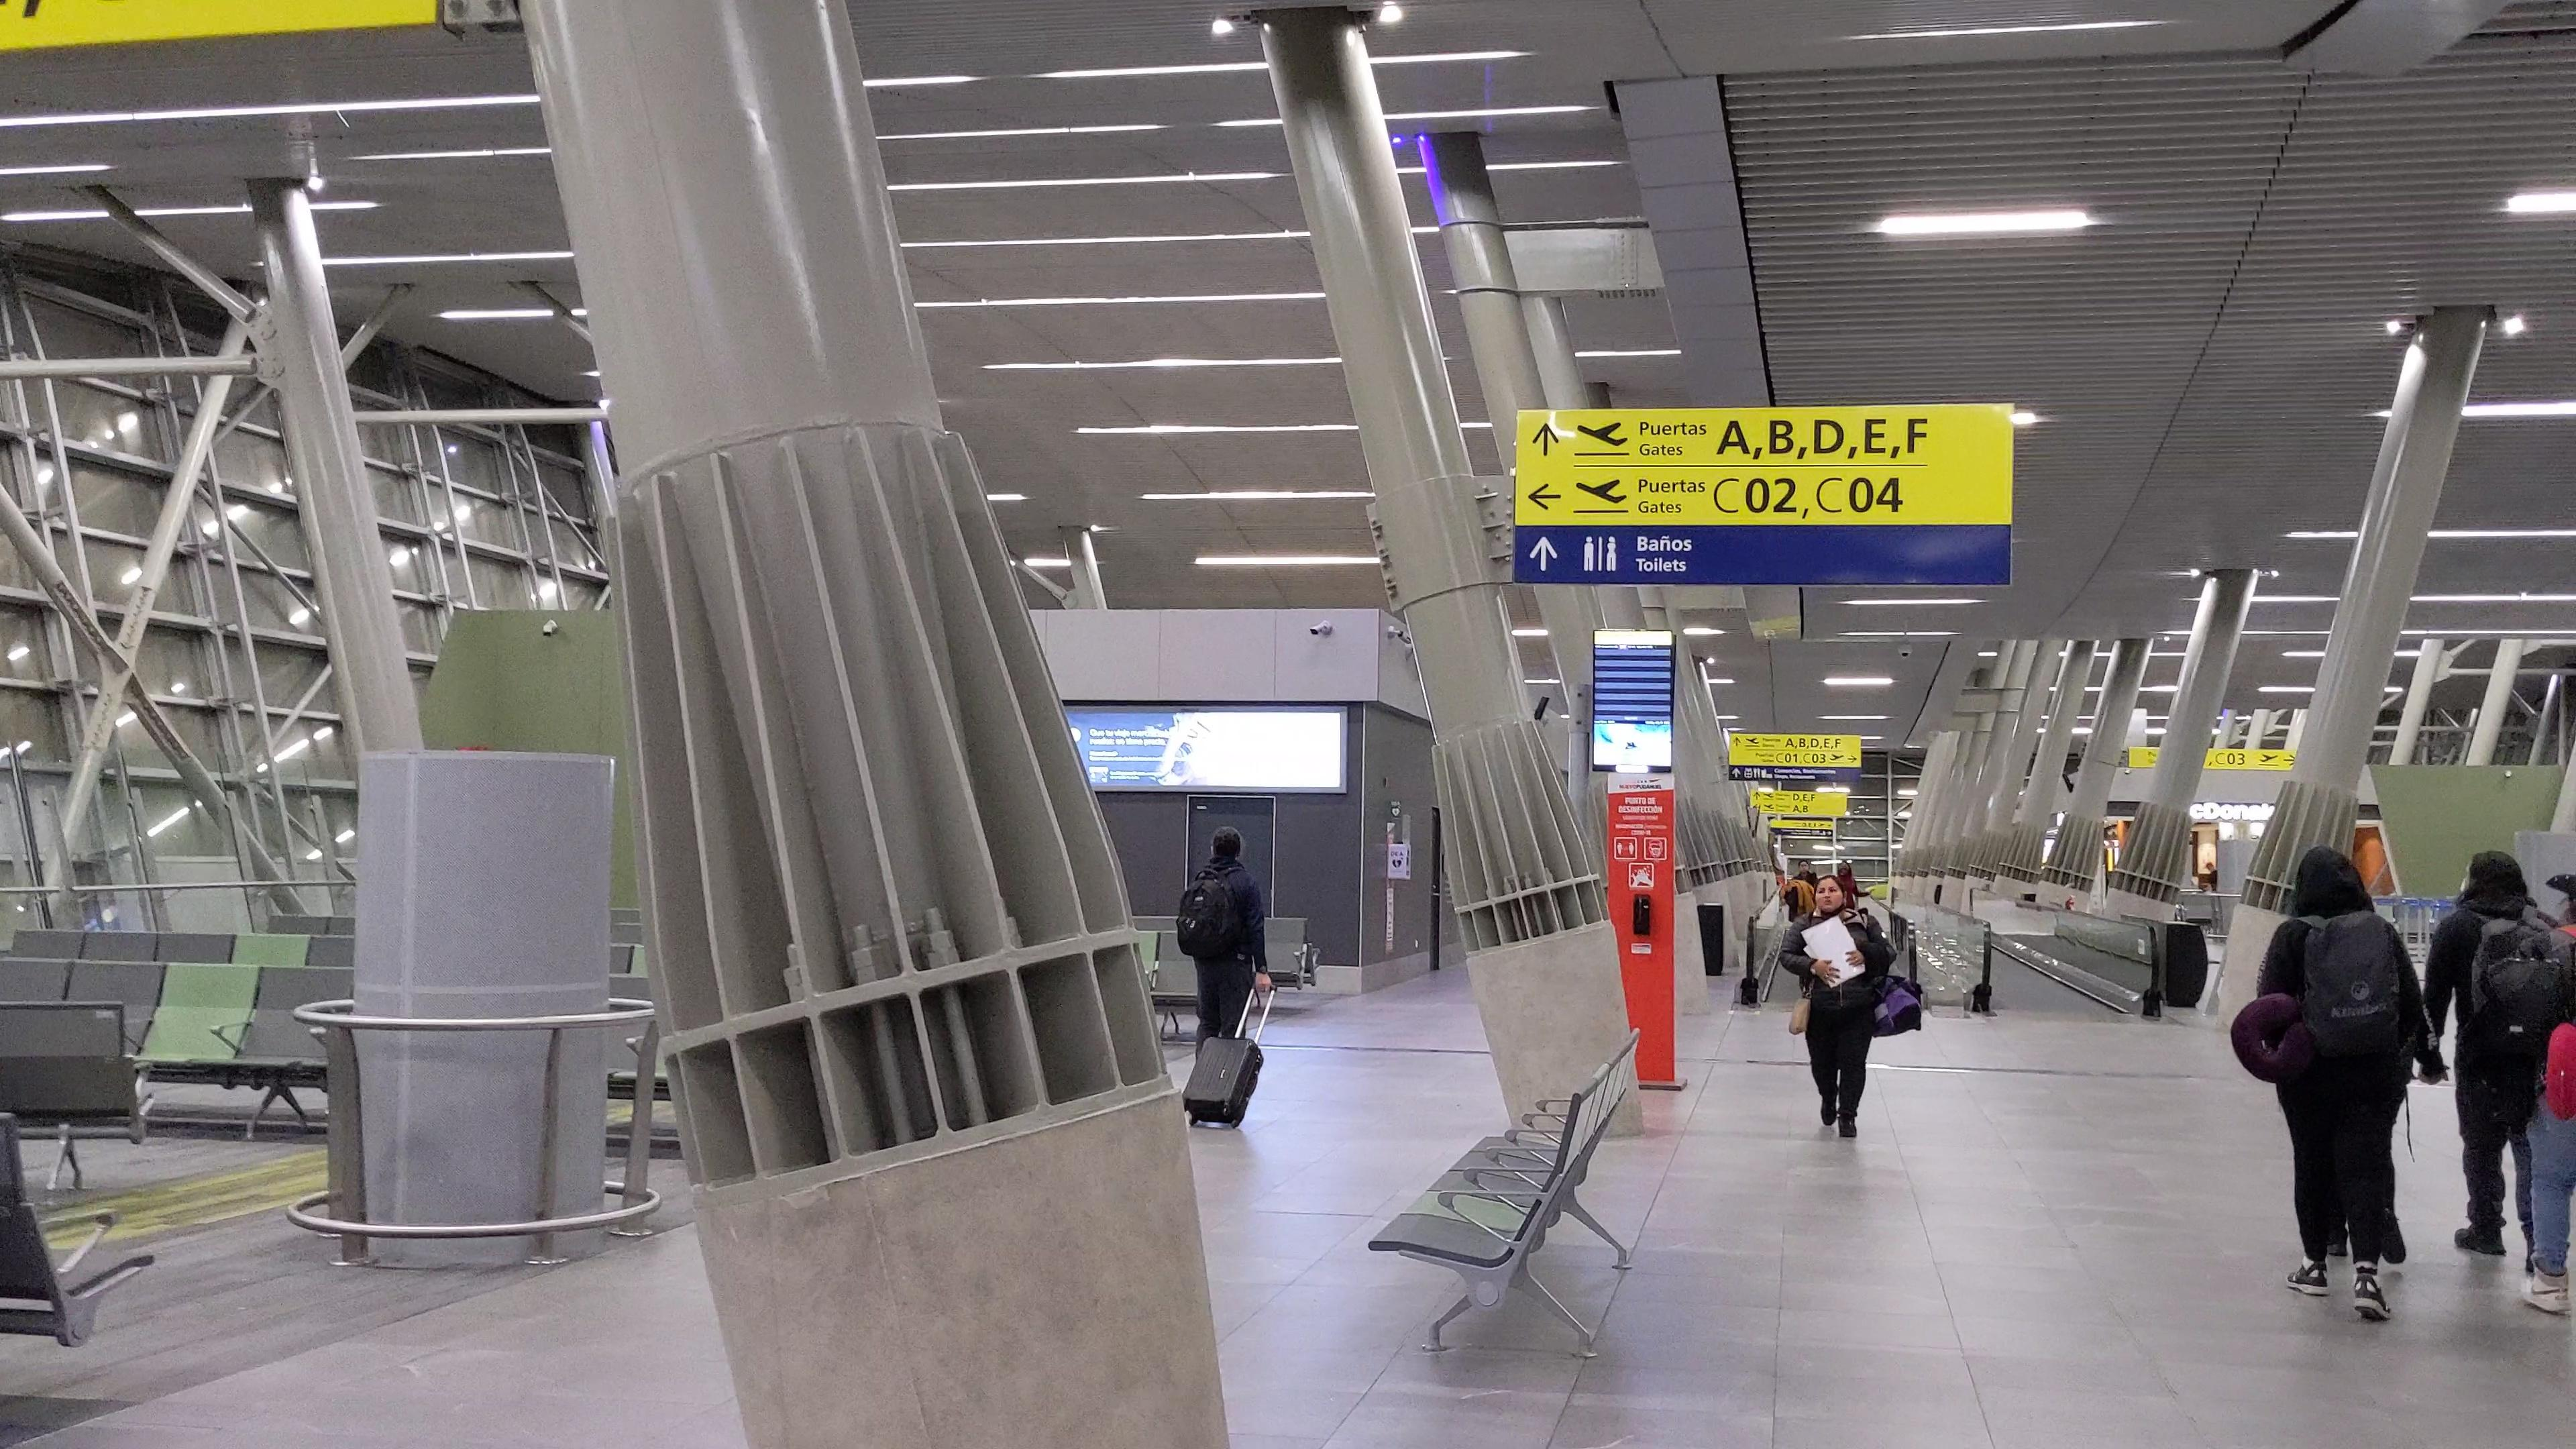airplane symbol: (1575, 476, 1628, 504), (1576, 419, 1629, 448), (1744, 736, 1760, 745), (1829, 752, 1844, 761), (1762, 803, 1775, 810), (1764, 791, 1775, 798)
bathrooms: (1582, 534, 1621, 571)
thin left arrow: (1527, 481, 1564, 513)
thin right arrow: (1845, 754, 1858, 764)
thin up arrow: (1527, 534, 1560, 573), (1530, 421, 1562, 458), (1732, 736, 1743, 747), (1732, 766, 1741, 778), (1753, 791, 1760, 801)
